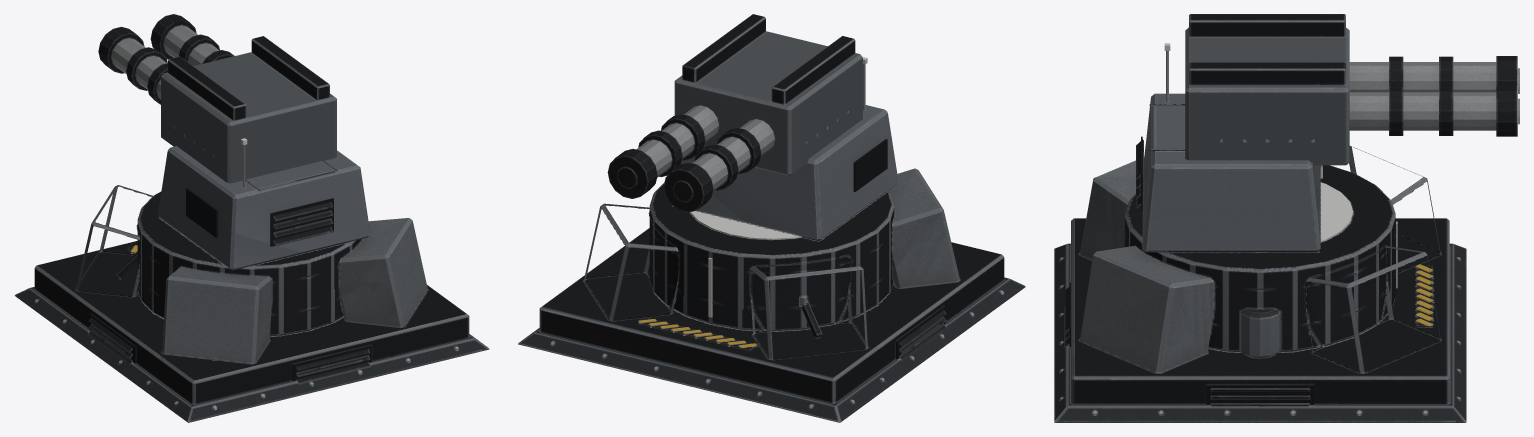
File: chs_talos.fbx
The picture shows the model from 3 angles, left to right: view 1: azimuth 30°, elevation 25°; view 2: azimuth 150°, elevation 25°; view 3: azimuth 270°, elevation 25°; orthographic projection. The views are drawn at different scales.
Parts seen in each view (by area): view 1: base_bar, barrel_bar, turret_bar; view 2: base_bar, barrel_bar, turret_bar, base_glow_power_bar; view 3: base_bar, barrel_bar, turret_bar, base_glow_power_bar.
Part boxes in pixels (x1,y1,x2,y2): base_bar: [14, 185, 489, 422]; barrel_bar: [98, 14, 336, 183]; turret_bar: [157, 145, 370, 270]; base_bar: [518, 168, 1025, 422]; barrel_bar: [607, 14, 862, 212]; turret_bar: [681, 64, 898, 240]; base_glow_power_bar: [690, 210, 802, 239]; base_bar: [1054, 146, 1466, 422]; barrel_bar: [1185, 14, 1519, 165]; turret_bar: [1136, 51, 1320, 252]; base_glow_power_bar: [1320, 182, 1353, 242].
Size of the model in its own units: 1154 by 1110 by 1303.
2 materials, 2 textured.
